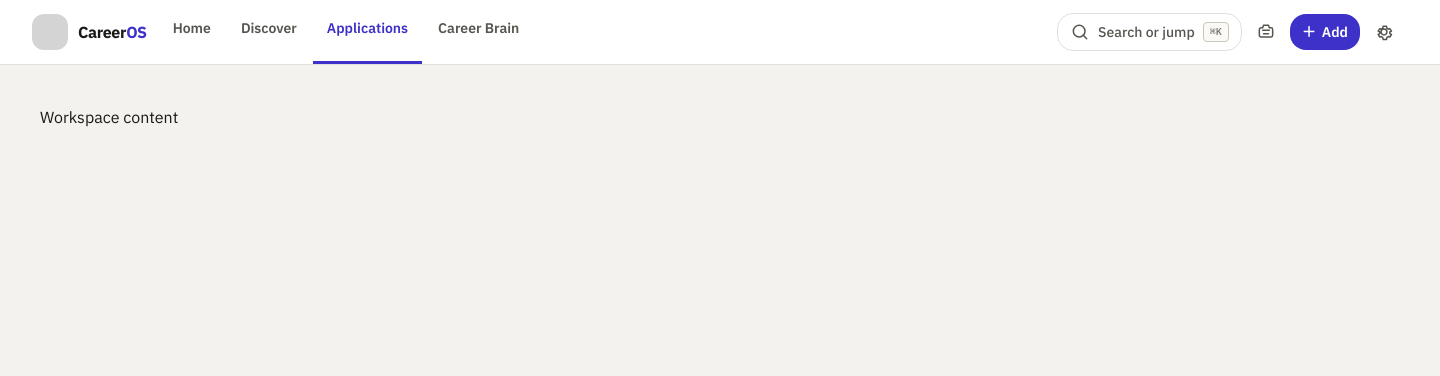
Test: AppShell › switches the product shell between English and Simplified Chinese
Click the button named "Settings" at point(1384, 32), box [1366,14,1402,50]
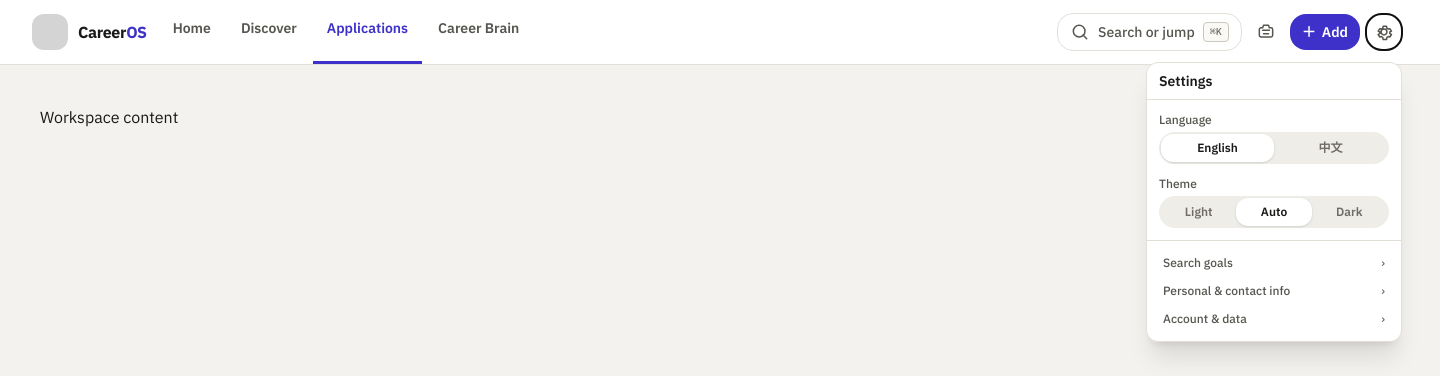
Click the button "中文" at point(1330, 148), box [1274,134,1387,162]
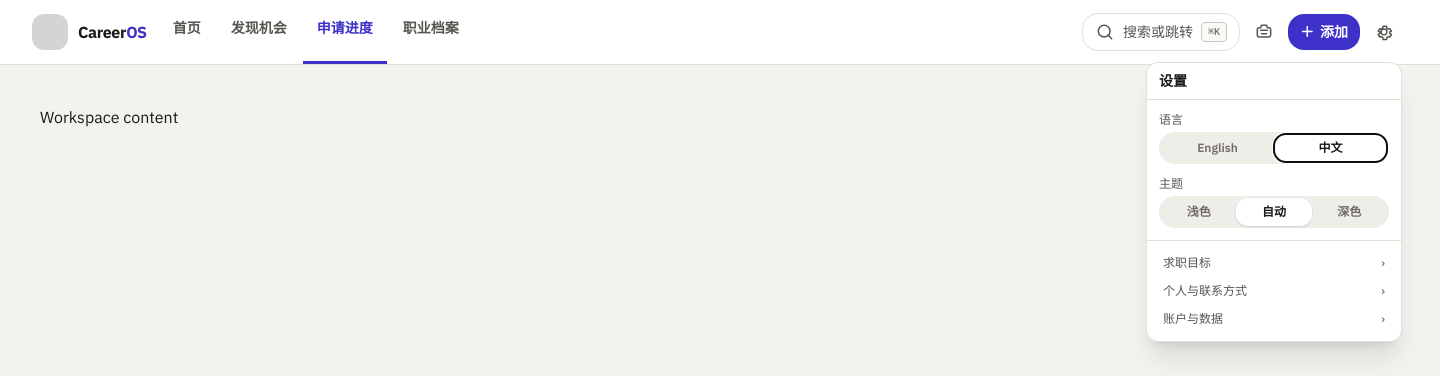
Now the link "申请进度" is shown, box [303,0,387,64]
Now the link "职业档案" is shown, box [403,19,459,37]
Now the link named "申请助手" is shown, box [1254,22,1274,42]
